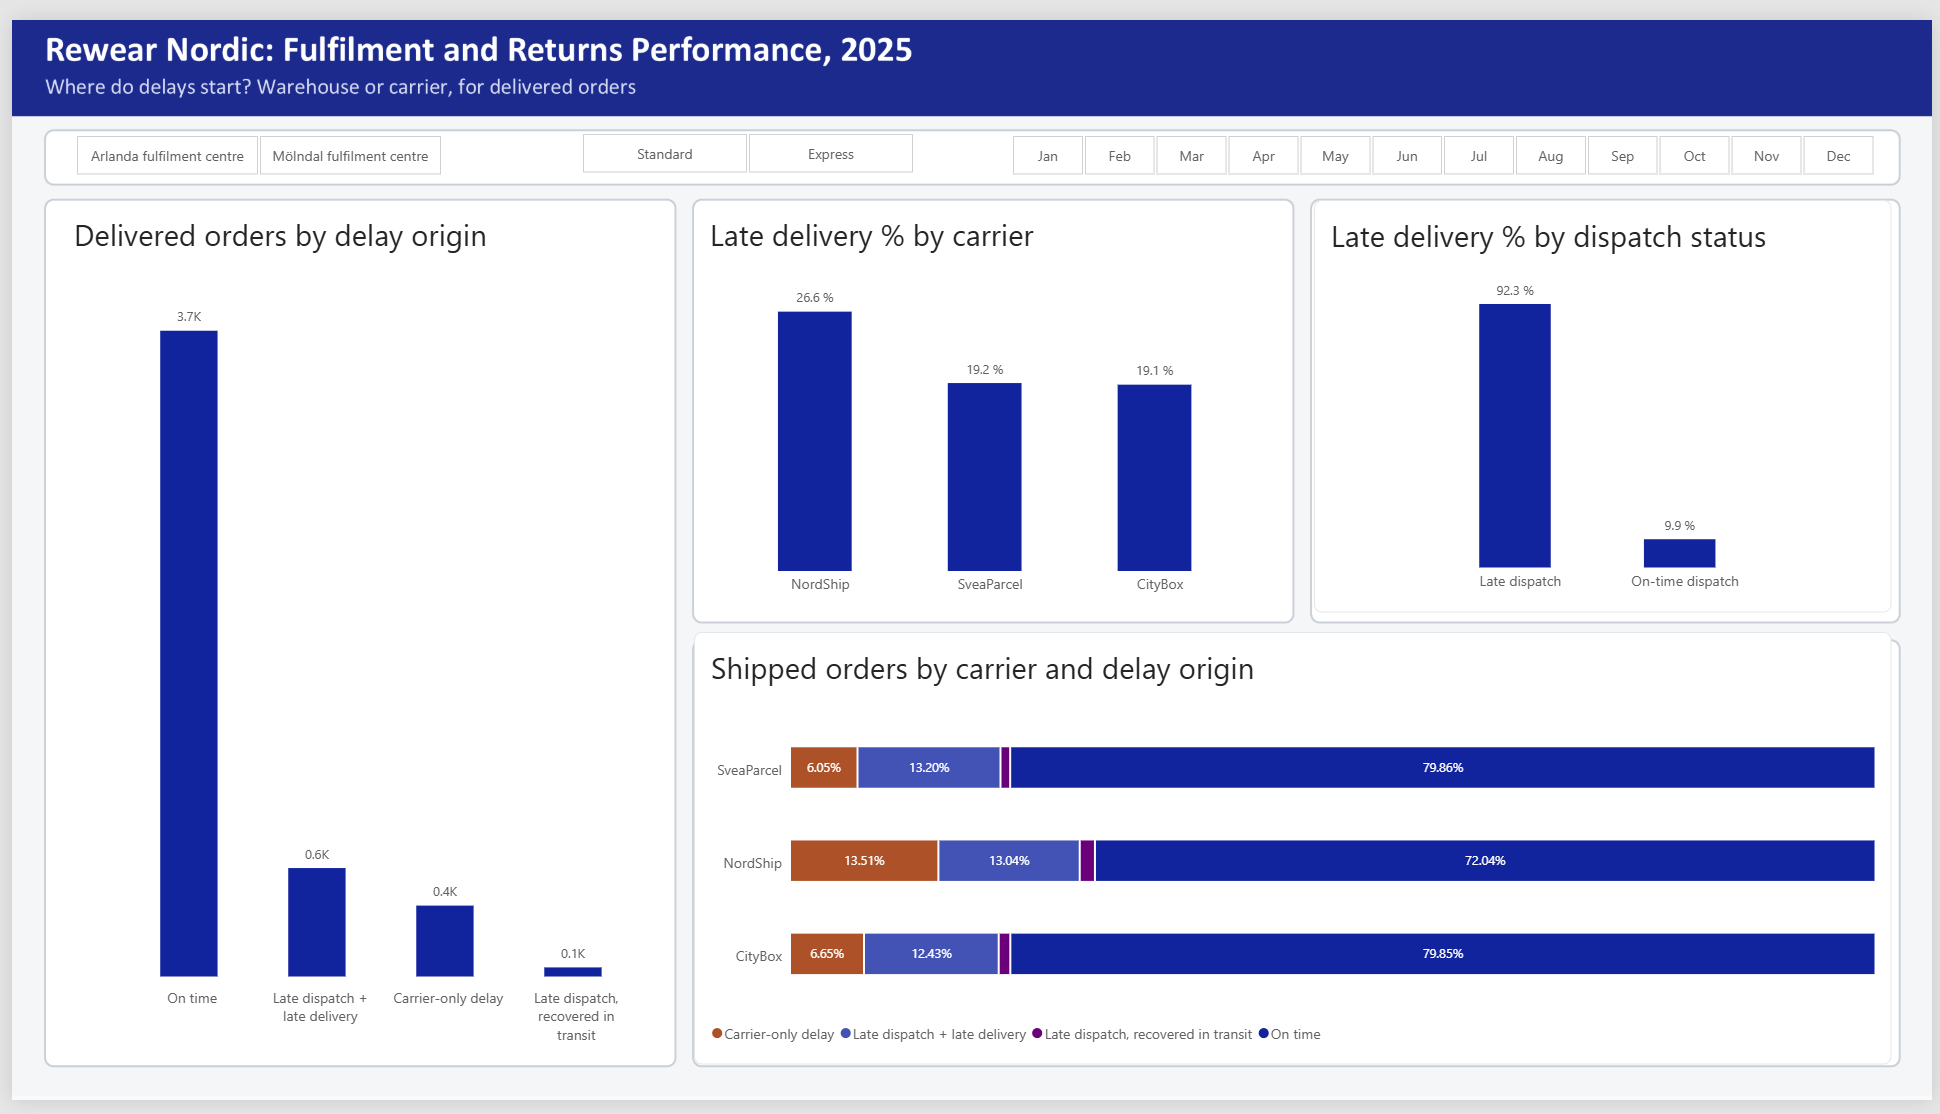

Layout of this report page (visuals, bound fields, positions):
{"tool":"powerbi","page":{"name":"Delay Origin","canvas":[1920,1080],"ordinal":1},"visuals":[{"type":"columnChart","title":"Delivered orders by delay origin","fields":{"Category":["T_Fulfilment.Delay Origin"],"Y":["Measures (2).Shipped Orders"]},"box":[45,180,617.5,862.5],"z":0},{"type":"clusteredColumnChart","title":"Late delivery % by carrier","fields":{"Category":["T_Fulfilment.Carrier"],"Y":["Measures (2).Late Delivery %"]},"box":[682.5,180,592.5,415],"z":1000},{"type":"hundredPercentStackedBarChart","title":"Shipped orders by carrier and delay origin","fields":{"Category":["T_Fulfilment.Carrier"],"Series":["T_Fulfilment.Delay Origin"],"Y":["Measures (2).Shipped Orders"]},"box":[682.5,612.5,1197.5,432.5],"z":2000},{"type":"slicer","fields":{"Values":["T_Warehouses.Warehouse_Name"]},"box":[44.5,113,403.8,42.6],"z":3000},{"type":"slicer","fields":{"Values":["T_Orders.Delivery_Service"]},"box":[550,112.5,370,42.5],"z":4000},{"type":"columnChart","title":"Late delivery % by dispatch status","fields":{"Category":["T_Fulfilment.Dispatch Status"],"Y":["Measures (2).Late Delivery %"]},"box":[1302.5,180,577.5,412.5],"z":5000},{"type":"slicer","fields":{"Values":["Dim_Date.Month"]},"box":[980,113,900.3,42.6],"z":6000}]}

Visuals, with their boxes in screenshot pixels (x1, y1, x2, y2), scaled from the page's 1920x1080 canvas onto the 1940x1114 screenshot:
"Delivered orders by delay origin" columnChart: [left=45, top=186, right=669, bottom=1075]
"Late delivery % by carrier" clusteredColumnChart: [left=690, top=186, right=1288, bottom=614]
"Shipped orders by carrier and delay origin" hundredPercentStackedBarChart: [left=690, top=632, right=1900, bottom=1078]
slicer - T_Warehouses.Warehouse_Name: [left=45, top=117, right=453, bottom=160]
slicer - T_Orders.Delivery_Service: [left=556, top=116, right=930, bottom=160]
"Late delivery % by dispatch status" columnChart: [left=1316, top=186, right=1900, bottom=611]
slicer - Dim_Date.Month: [left=990, top=117, right=1900, bottom=160]
